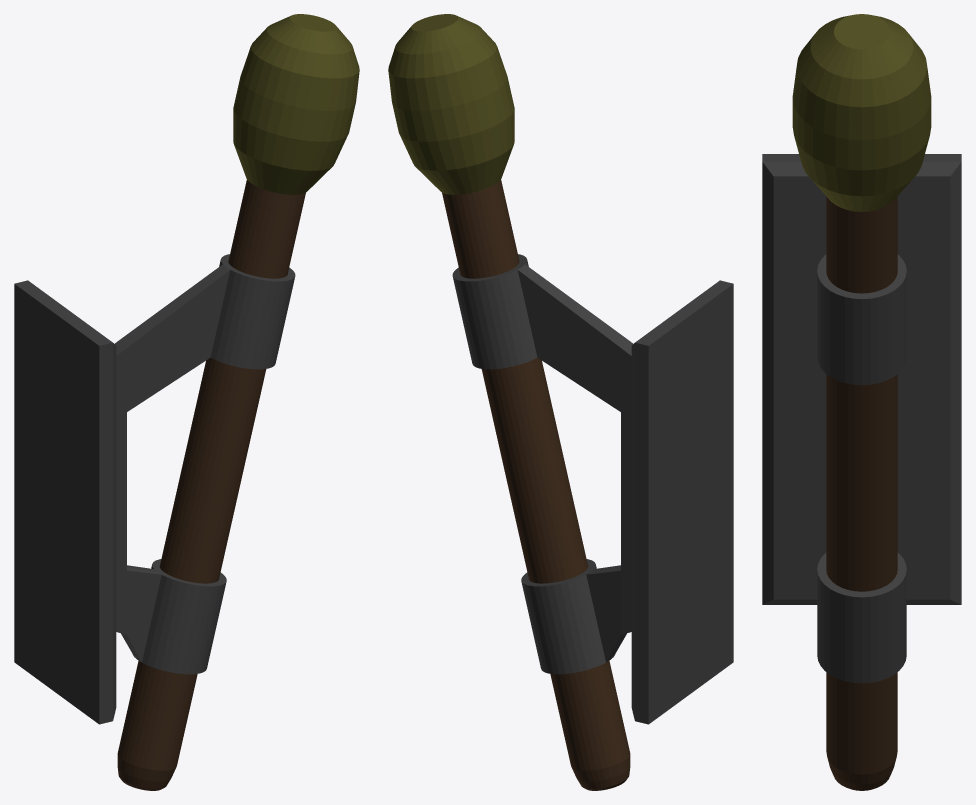
File: Torch_Wall.fbx
3 views of the same model, side by side, from view 1: azimuth 30°, elevation 25°; view 2: azimuth 150°, elevation 25°; view 3: azimuth 270°, elevation 25° (orthographic). The views are drawn at different scales.
Parts seen in each view (by area): view 1: Cylinder, Stick, Docht; view 2: Cylinder, Stick, Docht; view 3: Cylinder, Stick, Docht.
Part boxes in pixels (<box>): Cylinder: <box>14,254,295,724</box>; Stick: <box>117,180,305,790</box>; Docht: <box>233,14,359,194</box>; Cylinder: <box>452,254,733,724</box>; Stick: <box>442,180,630,790</box>; Docht: <box>388,14,514,194</box>; Cylinder: <box>762,154,961,683</box>; Stick: <box>826,196,897,790</box>; Docht: <box>792,14,931,211</box>.
Size of the model in its own units: 33.74 by 79.53 by 16.83.
